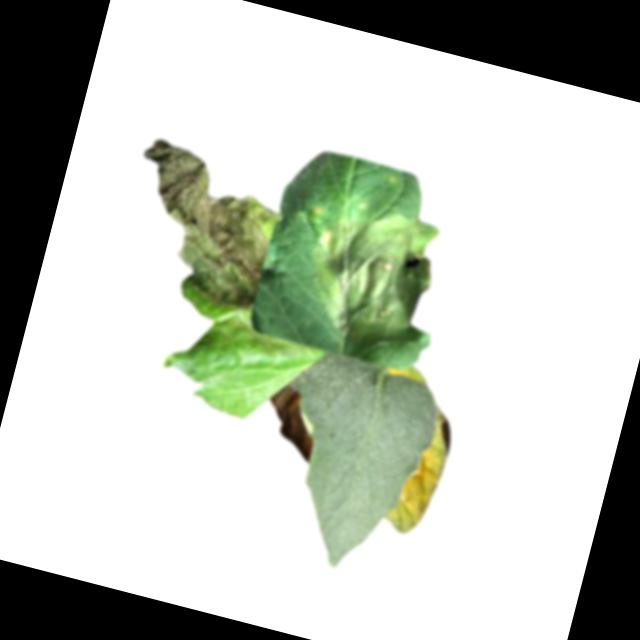Late_blight: (108, 135, 289, 324), (279, 189, 459, 361), (152, 290, 322, 431), (382, 406, 458, 541), (254, 377, 328, 466)
healthy: (249, 345, 445, 585)
